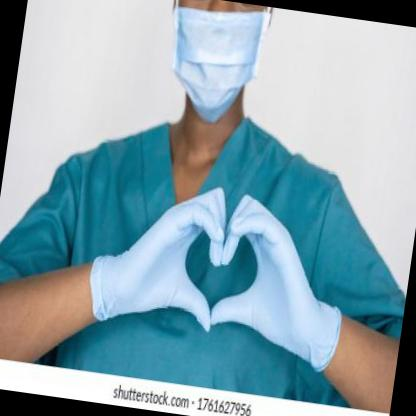Gloves: (206, 192, 358, 374), (82, 169, 228, 332)
